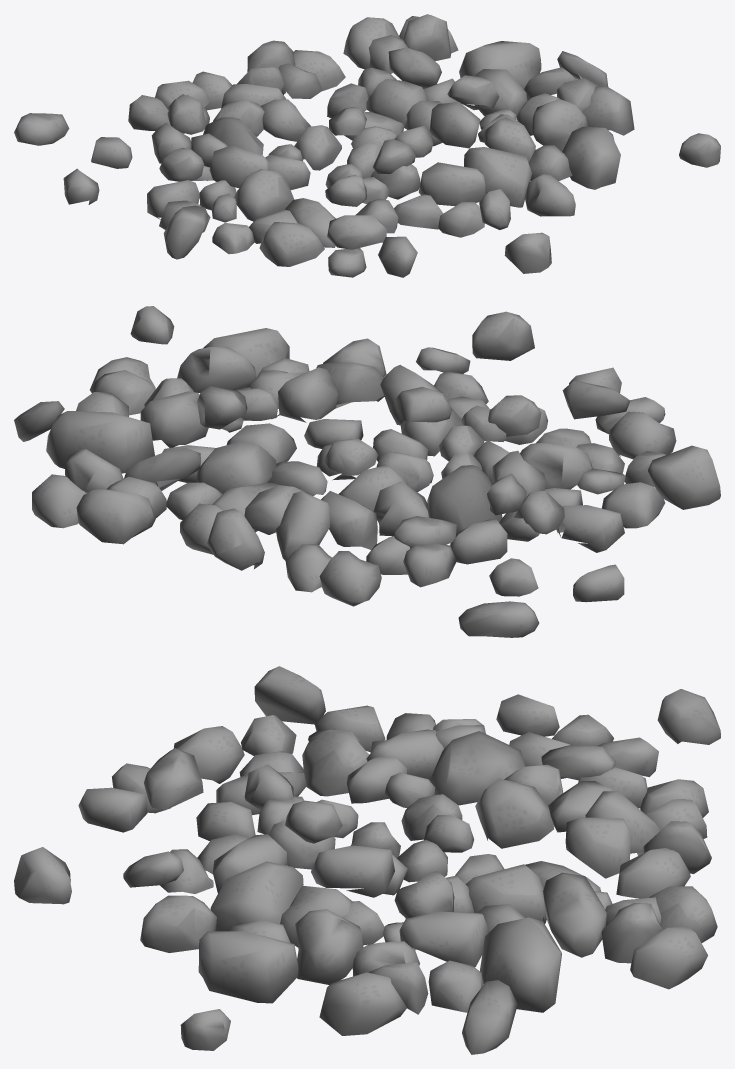
File: PebNest01.fbx
3 renders of one model, top to bottom at view 1: azimuth 30°, elevation 25°; view 2: azimuth 150°, elevation 25°; view 3: azimuth 270°, elevation 25°, orthographic. The views are drawn at different scales.
Parts seen in each view (by area): view 1: PebNest01; view 2: PebNest01; view 3: PebNest01.
Boxes of the visible parts, x1,y1,x2,y2 form: PebNest01: (14, 14, 720, 277); PebNest01: (14, 306, 720, 637); PebNest01: (14, 666, 720, 1054).
Bounding box in the file's own units: 0.6861 × 0.0788 × 0.604.
